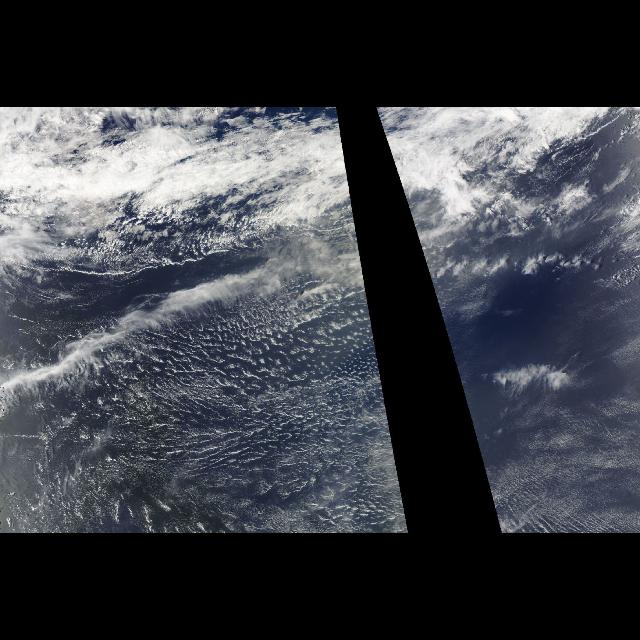Gravel: (27, 287, 407, 525)
Sugar: (104, 303, 412, 533), (438, 303, 640, 533)
